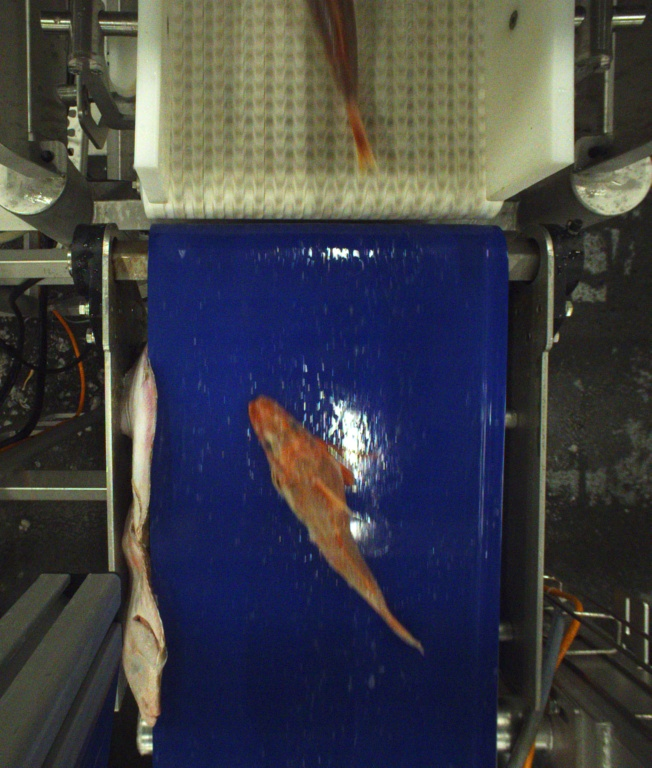GUU: (247, 397, 426, 657)
